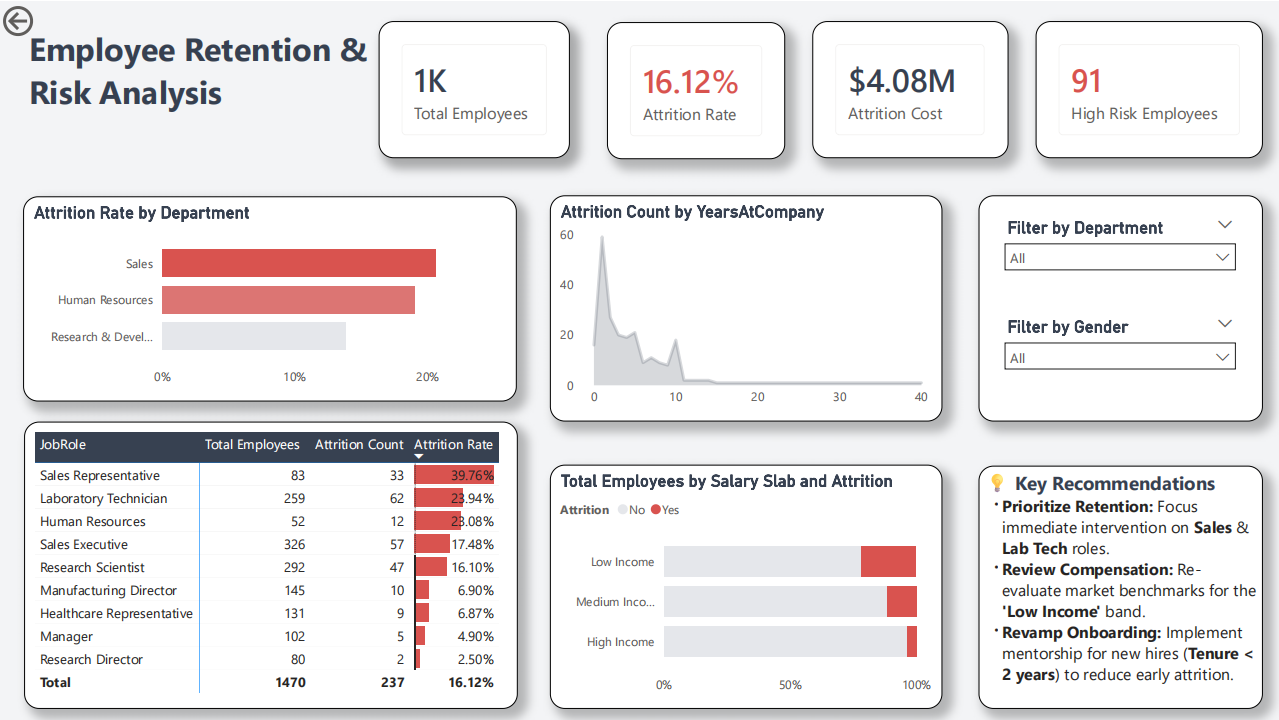

The dashboard page shown, as its layout file describes it:
{"tool":"powerbi","page":{"name":"Page 1","canvas":[1280,720],"ordinal":0},"visuals":[{"type":"cardVisual","fields":{"Data":["WA_Fn-UseC_-HR-Employee-Attrition.Total Employees"]},"box":[380,20,191.4,137.1],"z":0},{"type":"shape","box":[978.6,464.3,284.3,242.9],"z":0,"group":"g2"},{"type":"cardVisual","fields":{"Data":["WA_Fn-UseC_-HR-Employee-Attrition.Attrition Rate"]},"box":[607.9,20.6,178.4,137.2],"z":1000},{"type":"shape","box":[978.6,194.3,284.3,225.7],"z":1000,"group":"g1"},{"type":"cardVisual","fields":{"Data":["WA_Fn-UseC_-HR-Employee-Attrition.High Risk Employees"]},"box":[1035.7,20,227.1,137.1],"z":2000},{"type":"cardVisual","fields":{"Data":["WA_Fn-UseC_-HR-Employee-Attrition.Attrition Cost"]},"box":[812.9,20,195.7,137.1],"z":3000},{"type":"clusteredBarChart","fields":{"Y":["WA_Fn-UseC_-HR-Employee-Attrition.Attrition Rate"],"Category":["WA_Fn-UseC_-HR-Employee-Attrition.Department"]},"box":[25,195,493.3,205],"z":4000},{"type":"areaChart","fields":{"Y":["WA_Fn-UseC_-HR-Employee-Attrition.Attrition Count"],"Category":["WA_Fn-UseC_-HR-Employee-Attrition.YearsAtCompany"]},"box":[551.4,194.3,391.4,225.7],"z":5000},{"type":"pivotTable","fields":{"Rows":["WA_Fn-UseC_-HR-Employee-Attrition.JobRole"],"Values":["WA_Fn-UseC_-HR-Employee-Attrition.Total Employees","WA_Fn-UseC_-HR-Employee-Attrition.Attrition Count","WA_Fn-UseC_-HR-Employee-Attrition.Attrition Rate"]},"box":[25.7,420,492.9,287.1],"z":6000},{"type":"hundredPercentStackedBarChart","fields":{"Category":["WA_Fn-UseC_-HR-Employee-Attrition.Salary Slab"],"Y":["WA_Fn-UseC_-HR-Employee-Attrition.Total Employees"],"Series":["WA_Fn-UseC_-HR-Employee-Attrition.Attrition"]},"box":[551.4,462.9,391.4,244.3],"z":7000},{"type":"actionButton","box":[0,0,100,40],"z":8000},{"type":"group","id":"g1","title":"Group 2","box":[978.6,194.3,284.3,225.7],"z":9000},{"type":"slicer","fields":{"Values":["WA_Fn-UseC_-HR-Employee-Attrition.Department"]},"box":[994.7,211.4,251.5,92],"z":10000,"group":"g3"},{"type":"group","id":"g2","title":"Group 3","box":[978.6,463.1,284.6,253.9],"z":10000},{"type":"textbox","box":[25.7,20,367.1,137.1],"z":11000},{"type":"slicer","fields":{"Values":["WA_Fn-UseC_-HR-Employee-Attrition.Gender"]},"box":[994.7,310.4,251.5,78.1],"z":11000,"group":"g3"},{"type":"textbox","box":[979.2,463.1,284,253.9],"z":13000,"group":"g2"},{"type":"group","id":"g3","title":"Group 1","box":[994.7,211.4,251.5,177.1],"z":13001,"group":"g1"}]}

Visuals, with their boxes in screenshot pixels (x1, y1, x2, y2), scaled from the page's 1280x720 canvas onto the 1279x720 screenshot:
cardVisual - WA_Fn-UseC_-HR-Employee-Attrition.Total Employees: (380, 20, 571, 157)
shape: (978, 464, 1262, 707)
cardVisual - WA_Fn-UseC_-HR-Employee-Attrition.Attrition Rate: (607, 21, 786, 158)
shape: (978, 194, 1262, 420)
cardVisual - WA_Fn-UseC_-HR-Employee-Attrition.High Risk Employees: (1035, 20, 1262, 157)
cardVisual - WA_Fn-UseC_-HR-Employee-Attrition.Attrition Cost: (812, 20, 1008, 157)
clusteredBarChart - WA_Fn-UseC_-HR-Employee-Attrition.Attrition Rate x WA_Fn-UseC_-HR-Employee-Attrition.Department: (25, 195, 518, 400)
areaChart - WA_Fn-UseC_-HR-Employee-Attrition.Attrition Count x WA_Fn-UseC_-HR-Employee-Attrition.YearsAtCompany: (551, 194, 942, 420)
pivotTable - WA_Fn-UseC_-HR-Employee-Attrition.JobRole x WA_Fn-UseC_-HR-Employee-Attrition.Total Employees: (26, 420, 518, 707)
hundredPercentStackedBarChart - WA_Fn-UseC_-HR-Employee-Attrition.Salary Slab x WA_Fn-UseC_-HR-Employee-Attrition.Total Employees: (551, 463, 942, 707)
actionButton: (0, 0, 100, 40)
"Group 2" group: (978, 194, 1262, 420)
slicer - WA_Fn-UseC_-HR-Employee-Attrition.Department: (994, 211, 1245, 303)
"Group 3" group: (978, 463, 1262, 717)
textbox: (26, 20, 392, 157)
slicer - WA_Fn-UseC_-HR-Employee-Attrition.Gender: (994, 310, 1245, 388)
textbox: (978, 463, 1262, 717)
"Group 1" group: (994, 211, 1245, 388)
